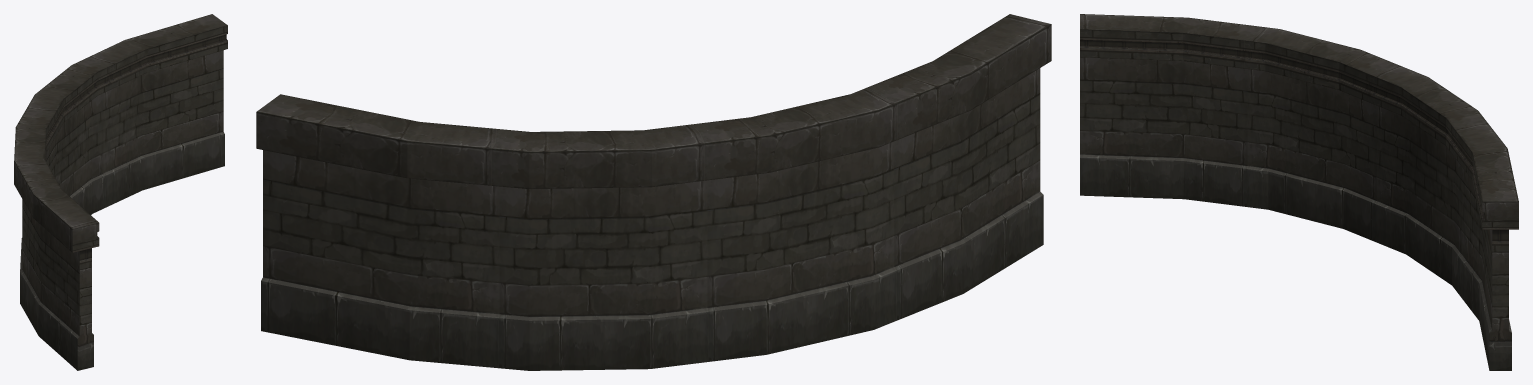
File: sewer_wall005.FBX
3 renders of one model, left to right at view 1: azimuth 30°, elevation 25°; view 2: azimuth 150°, elevation 25°; view 3: azimuth 270°, elevation 25°, orthographic. The views are drawn at different scales.
Visible parts, largest first — view 1: sewer_wall005; view 2: sewer_wall005; view 3: sewer_wall005.
Boxes of the visible parts, bbox=[...] form: sewer_wall005: bbox=[14, 14, 227, 370]; sewer_wall005: bbox=[256, 14, 1051, 370]; sewer_wall005: bbox=[1080, 14, 1518, 370].
Bounding box in the file's own units: 1414 × 594 × 1397.
